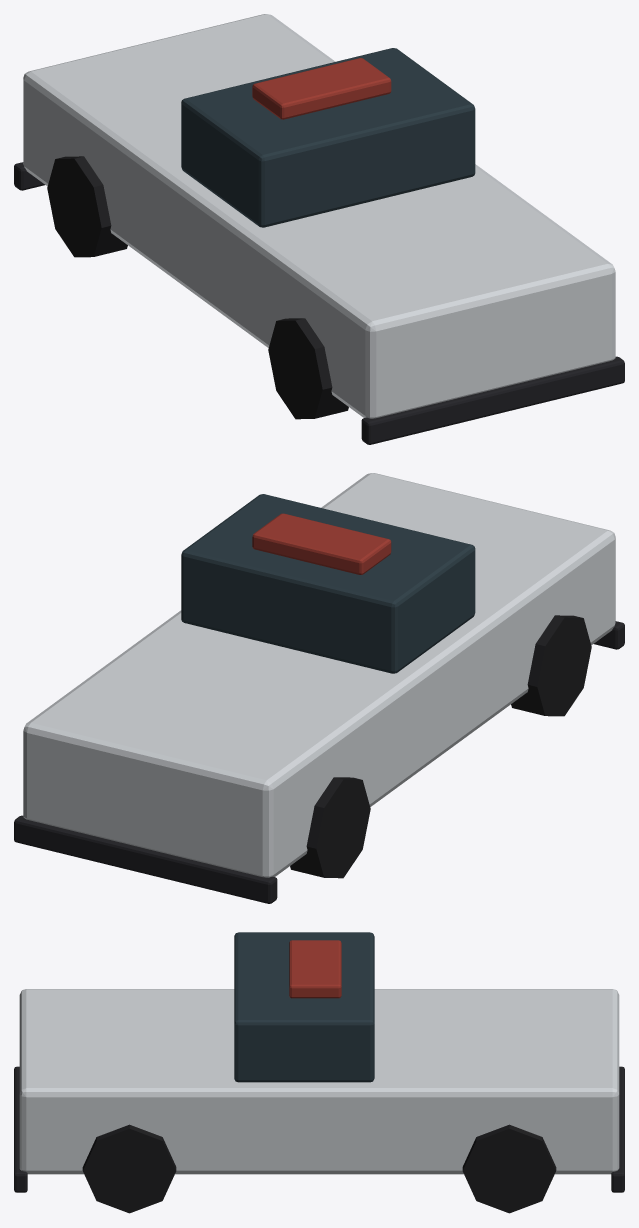
The model's file is police_car_wreck_lod1.glb.
The picture shows the model from 3 angles, top to bottom: view 1: azimuth 30°, elevation 25°; view 2: azimuth 150°, elevation 25°; view 3: azimuth 270°, elevation 25°; orthographic projection. The views are drawn at different scales.
Visible parts, largest first — view 1: police_car_wreck_lod1; view 2: police_car_wreck_lod1; view 3: police_car_wreck_lod1.
Part boxes in pixels (bbox=[...]): police_car_wreck_lod1: bbox=[14, 14, 624, 444]; police_car_wreck_lod1: bbox=[14, 473, 624, 903]; police_car_wreck_lod1: bbox=[14, 932, 624, 1213].
Size of the model in its own units: 1.94 by 1.56 by 4.44.
Materials: 3 (3 with a texture image).
